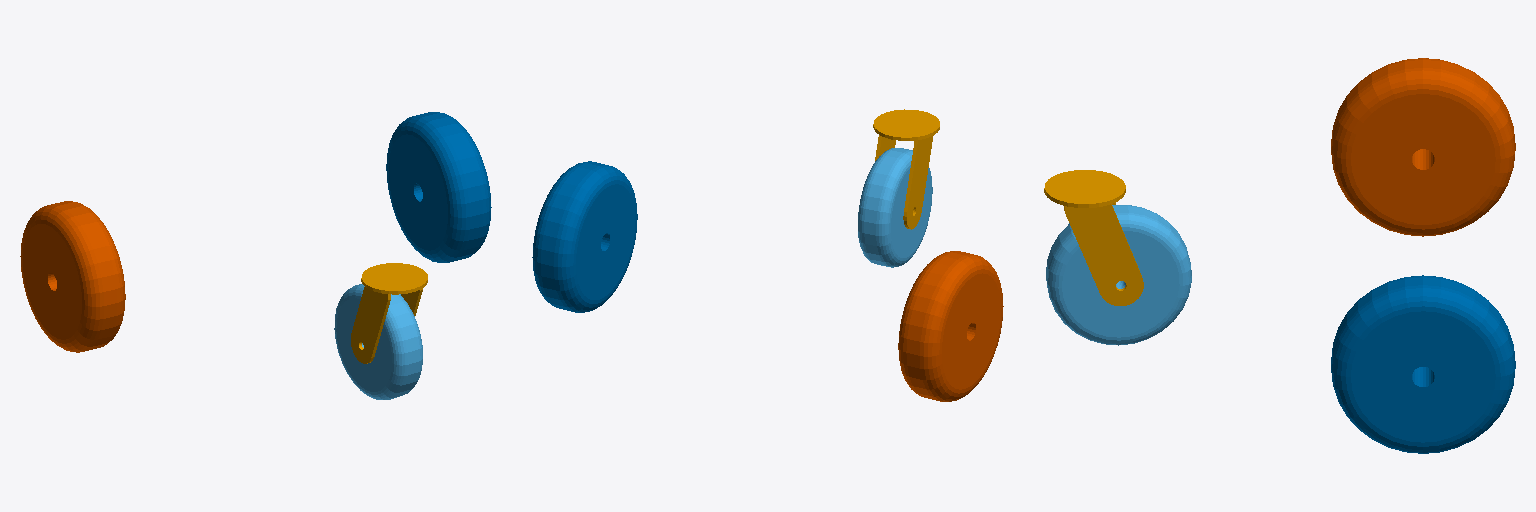
The robot description file, URDF, robot "igvc_test_robot":
<?xml version="1.0" ?>
<!-- =================================================================================== -->
<!-- |    This document was autogenerated by xacro from /workspace/DevEnv/jazzy_ws/IGVC_robot_2026/src/igvc_test_description/urdf/robots/test_robot.urdf.xacro | -->
<!-- |    EDITING THIS FILE BY HAND IS NOT RECOMMENDED                                 | -->
<!-- =================================================================================== -->
<robot name="igvc_test_robot">
  <ros2_control name="igvc_test_bot" type="system">
    <hardware>
      <plugin>grr_hardware/IsaacDriveHardware</plugin>
    </hardware>
    <joint name="right_wheel_joint">
      <command_interface name="velocity">
        <param name="min">-1</param>
        <param name="max">1</param>
      </command_interface>
      <state_interface name="position"/>
      <state_interface name="velocity"/>
    </joint>
    <joint name="left_wheel_joint">
      <command_interface name="velocity">
        <param name="min">-1</param>
        <param name="max">1</param>
      </command_interface>
      <state_interface name="position"/>
      <state_interface name="velocity"/>
    </joint>
  </ros2_control>
  <material name="zed_mat">
    <color rgba="0.8 0.8 0.8 1.0"/>
  </material>
  <material name="zedm_mat">
    <color rgba="0 0 0 1.0"/>
  </material>
  <material name="zed2_mat">
    <color rgba="0.25 0.25 0.25 1.0"/>
  </material>
  <material name="zed2i_mat">
    <color rgba="0.25 0.25 0.25 1.0"/>
  </material>
  <material name="zedx_mat">
    <color rgba="0.25 0.25 0.25 1.0"/>
  </material>
  <material name="zedxm_mat">
    <color rgba="0.25 0.25 0.25 1.0"/>
  </material>
  <material name="zedxhdr_mat">
    <color rgba="0.25 0.25 0.25 1.0"/>
  </material>
  <material name="zedxhdrmini_mat">
    <color rgba="0.25 0.25 0.25 1.0"/>
  </material>
  <material name="zedxhdrmax_mat">
    <color rgba="0.25 0.25 0.25 1.0"/>
  </material>
  <material name="virtual_mat">
    <color rgba="0.25 0.25 0.25 1.0"/>
  </material>
  <material name="zedxonegs_mat">
    <color rgba="0.25 0.25 0.25 1.0"/>
  </material>
  <material name="zedxone4k_mat">
    <color rgba="0.25 0.25 0.25 1.0"/>
  </material>
  <material name="zedxonehdr_mat">
    <color rgba="0.25 0.25 0.25 1.0"/>
  </material>
  <joint name="right_wheel_joint" type="continuous">
    <origin rpy="-1.5707966 -0.0000001 -1.5707964" xyz="-0.25135 0. -0.128425"/>
    <parent link="chassis_link"/>
    <child link="right_wheel_link"/>
    <axis xyz="0. 0. 1."/>
  </joint>
  <joint name="caster_raceway_joint" type="continuous">
    <origin rpy="3.1415927 0. 0. " xyz="0. -0.3725 -0.044525"/>
    <parent link="chassis_link"/>
    <child link="caster_raceway_link"/>
    <axis xyz="0. 0. 1."/>
  </joint>
  <joint name="left_wheel_joint" type="continuous">
    <origin rpy="3.1415927 1.5707964 0. " xyz="0.25135 0. -0.128425"/>
    <parent link="chassis_link"/>
    <child link="left_wheel_link"/>
    <axis xyz="0. 0. -1."/>
  </joint>
  <joint name="caster_wheel_joint" type="continuous">
    <origin rpy="1.5707963 0.0862497 -1.660313 " xyz="-0.0270522 -0.0350281 0.1085062"/>
    <parent link="caster_raceway_link"/>
    <child link="caster_wheel_link"/>
    <axis xyz="0. 0. -1."/>
  </joint>
  <joint name="rootJoint" type="fixed">
    <origin rpy="0. 0. 0." xyz="0. 0. 0."/>
    <parent link="base_link"/>
    <child link="chassis_link"/>
  </joint>
  <link name="caster_raceway_link">
    <visual>
      <origin rpy="-3.1415927 0. 1.4812796" xyz="0. -0. -0.005"/>
      <geometry>
        <mesh filename="package://igvc_test_description/meshes/Part_2.obj" scale="1. 1. 1."/>
      </geometry>
    </visual>
    <collision>
      <origin rpy="-3.1415927 0. 1.4812796" xyz="0. -0. -0.005"/>
      <geometry>
        <mesh filename="package://igvc_test_description/meshes/Part_2.obj" scale="1. 1. 1."/>
      </geometry>
    </collision>
  </link>
  <link name="caster_wheel_link">
    <inertial>
      <origin rpy="0. 0. 0." xyz="0. 0. -0.0238125"/>
      <mass value="1.0005643"/>
      <inertia ixx="0.0017247" ixy="-0." ixz="-0." iyy="0.0030953" iyz="0." izz="0.0017247"/>
    </inertial>
    <visual>
      <origin rpy="-1.5707963 -0. 0.0000001" xyz="0.0373062 0.1135063 -0.0238125"/>
      <geometry>
        <mesh filename="package://igvc_test_description/meshes/_in_Caster.obj" scale="1. 1. 1."/>
      </geometry>
    </visual>
    <collision>
      <origin rpy="-1.5707963 -0. 0.0000001" xyz="0.0373062 0.1135063 -0.0238125"/>
      <geometry>
        <mesh filename="package://igvc_test_description/meshes/_in_Caster.obj" scale="1. 1. 1."/>
      </geometry>
    </collision>
  </link>
  <link name="chassis_link">
    <visual>
      <origin rpy="0. 0. 0." xyz="0. 0. 0."/>
      <geometry>
        <mesh filename="package://igvc_test_description/meshes/_FE2CBA3_2B86_49A6_86C6_46C335366A6A.obj" scale="1. 1. 1."/>
      </geometry>
    </visual>
    <collision>
      <origin rpy="0. 0. 0." xyz="0. 0. 0."/>
      <geometry>
        <mesh filename="package://igvc_test_description/meshes/_FE2CBA3_2B86_49A6_86C6_46C335366A6A.obj" scale="1. 1. 1."/>
      </geometry>
    </collision>
  </link>
  <link name="base_link"/>
  <link name="left_wheel_link">
    <inertial>
      <origin rpy="0. 0. 0." xyz="0. 0. -0.032"/>
      <mass value="2.1118586"/>
      <inertia ixx="0.0059185" ixy="0." ixz="0." iyy="0.0105056" iyz="-0." izz="0.0059185"/>
    </inertial>
    <visual>
      <origin rpy="1.5707964 0. 0. " xyz="0. 0. -0.032"/>
      <geometry>
        <mesh filename="package://igvc_test_description/meshes/left_wheel_link__in_Wheel_Stand_In.obj" scale="1. 1. 1."/>
      </geometry>
    </visual>
    <collision>
      <origin rpy="1.5707964 0. 0. " xyz="0. 0. -0.032"/>
      <geometry>
        <mesh filename="package://igvc_test_description/meshes/left_wheel_link__in_Wheel_Stand_In.obj" scale="1. 1. 1."/>
      </geometry>
    </collision>
  </link>
  <link name="right_wheel_link">
    <inertial>
      <origin rpy="0. 0. 0." xyz="0. 0. -0.032"/>
      <mass value="2.1118586"/>
      <inertia ixx="0.0059185" ixy="-0." ixz="-0." iyy="0.0105056" iyz="0." izz="0.0059185"/>
    </inertial>
    <visual>
      <origin rpy="-1.5707961 -0.0000001 0.0000001" xyz="0. 0. -0.032"/>
      <geometry>
        <mesh filename="package://igvc_test_description/meshes/right_wheel_link__in_Wheel_Stand_In.obj" scale="1. 1. 1."/>
      </geometry>
    </visual>
    <collision>
      <origin rpy="-1.5707961 -0.0000001 0.0000001" xyz="0. 0. -0.032"/>
      <geometry>
        <mesh filename="package://igvc_test_description/meshes/right_wheel_link__in_Wheel_Stand_In.obj" scale="1. 1. 1."/>
      </geometry>
    </collision>
  </link>
  <!-- Camera mounting point (the threaded screw hole in the bottom) -->
  <link name="left_zed_camera_x_camera_link"/>
  <!-- Camera Center -->
  <link name="left_zed_camera_x_camera_center">
    <visual>
      <origin rpy="0 0 0" xyz="0.0 0 -0.016"/>
      <geometry>
        <mesh filename="package:///workspace/DevEnv/jazzy_ws/IGVC_robot_2026/install/zed_description/share/zed_description/meshes/zedx.stl"/>
      </geometry>
      <material name="zedx_mat"/>
    </visual>
    <collision>
      <origin rpy="0 0 0" xyz="0.0 0 -0.016"/>
      <geometry>
        <mesh filename="package:///workspace/DevEnv/jazzy_ws/IGVC_robot_2026/install/zed_description/share/zed_description/meshes/zedx.stl"/>
      </geometry>
    </collision>
  </link>
  <joint name="left_zed_camera_x_camera_center_joint" type="fixed">
    <parent link="left_zed_camera_x_camera_link"/>
    <child link="left_zed_camera_x_camera_center"/>
    <origin rpy="0 0.0 0" xyz="0 0 0.016"/>
  </joint>
  <!-- Left Camera -->
  <link name="left_zed_camera_x_left_camera_frame">
  </link>
  <joint name="left_zed_camera_x_left_camera_joint" type="fixed">
    <parent link="left_zed_camera_x_camera_center"/>
    <child link="left_zed_camera_x_left_camera_frame"/>
    <origin rpy="0 0 0" xyz="-0.01 0.06 0"/>
  </joint>
  <link name="left_zed_camera_x_left_camera_optical_frame"/>
  <joint name="left_zed_camera_x_left_camera_optical_joint" type="fixed">
    <origin rpy="-1.5707963267948966 0.0 -1.5707963267948966" xyz="0 0 0"/>
    <parent link="left_zed_camera_x_left_camera_frame"/>
    <child link="left_zed_camera_x_left_camera_optical_frame"/>
  </joint>
  <!-- Right Camera -->
  <link name="left_zed_camera_x_right_camera_frame">
  </link>
  <joint name="left_zed_camera_x_right_camera_joint" type="fixed">
    <parent link="left_zed_camera_x_camera_center"/>
    <child link="left_zed_camera_x_right_camera_frame"/>
    <origin rpy="0 0 0" xyz="-0.01 -0.06 0"/>
  </joint>
  <link name="left_zed_camera_x_right_camera_optical_frame"/>
  <joint name="left_zed_camera_x_right_camera_optical_joint" type="fixed">
    <origin rpy="-1.5707963267948966 0.0 -1.5707963267948966" xyz="0 0 0"/>
    <parent link="left_zed_camera_x_right_camera_frame"/>
    <child link="left_zed_camera_x_right_camera_optical_frame"/>
  </joint>
  <link name="left_zed_camera_x_gnss_link"/>
  <joint name="left_zed_camera_x_gnss_joint" type="fixed">
    <parent link="left_zed_camera_x_camera_link"/>
    <child link="left_zed_camera_x_gnss_link"/>
    <gnss_origin rpy="0 0 0" xyz="0 0 0"/>
  </joint>
  <joint name="left_zed_camera_x_joint" type="fixed">
    <parent link="chassis_link"/>
    <child link="left_zed_camera_x_camera_link"/>
    <origin rpy="0 0 0" xyz="0.2 -0.1 1.57"/>
  </joint>
  <!-- Camera mounting point (the threaded screw hole in the bottom) -->
  <link name="front_zed_camera_x_camera_link"/>
  <!-- Camera Center -->
  <link name="front_zed_camera_x_camera_center">
    <visual>
      <origin rpy="0 0 0" xyz="0.0 0 -0.016"/>
      <geometry>
        <mesh filename="package:///workspace/DevEnv/jazzy_ws/IGVC_robot_2026/install/zed_description/share/zed_description/meshes/zedx.stl"/>
      </geometry>
      <material name="zedx_mat"/>
    </visual>
    <collision>
      <origin rpy="0 0 0" xyz="0.0 0 -0.016"/>
      <geometry>
        <mesh filename="package:///workspace/DevEnv/jazzy_ws/IGVC_robot_2026/install/zed_description/share/zed_description/meshes/zedx.stl"/>
      </geometry>
    </collision>
  </link>
  <joint name="front_zed_camera_x_camera_center_joint" type="fixed">
    <parent link="front_zed_camera_x_camera_link"/>
    <child link="front_zed_camera_x_camera_center"/>
    <origin rpy="0 0.0 0" xyz="0 0 0.016"/>
  </joint>
  <!-- Left Camera -->
  <link name="front_zed_camera_x_left_camera_frame">
  </link>
  <joint name="front_zed_camera_x_left_camera_joint" type="fixed">
    <parent link="front_zed_camera_x_camera_center"/>
    <child link="front_zed_camera_x_left_camera_frame"/>
    <origin rpy="0 0 0" xyz="-0.01 0.06 0"/>
  </joint>
  <link name="front_zed_camera_x_left_camera_optical_frame"/>
  <joint name="front_zed_camera_x_left_camera_optical_joint" type="fixed">
    <origin rpy="-1.5707963267948966 0.0 -1.5707963267948966" xyz="0 0 0"/>
    <parent link="front_zed_camera_x_left_camera_frame"/>
    <child link="front_zed_camera_x_left_camera_optical_frame"/>
  </joint>
  <!-- Right Camera -->
  <link name="front_zed_camera_x_right_camera_frame">
  </link>
  <joint name="front_zed_camera_x_right_camera_joint" type="fixed">
    <parent link="front_zed_camera_x_camera_center"/>
    <child link="front_zed_camera_x_right_camera_frame"/>
    <origin rpy="0 0 0" xyz="-0.01 -0.06 0"/>
  </joint>
  <link name="front_zed_camera_x_right_camera_optical_frame"/>
  <joint name="front_zed_camera_x_right_camera_optical_joint" type="fixed">
    <origin rpy="-1.5707963267948966 0.0 -1.5707963267948966" xyz="0 0 0"/>
    <parent link="front_zed_camera_x_right_camera_frame"/>
    <child link="front_zed_camera_x_right_camera_optical_frame"/>
  </joint>
  <link name="front_zed_camera_x_gnss_link"/>
  <joint name="front_zed_camera_x_gnss_joint" type="fixed">
    <parent link="front_zed_camera_x_camera_link"/>
    <child link="front_zed_camera_x_gnss_link"/>
    <gnss_origin rpy="0 0 0" xyz="0 0 0"/>
  </joint>
  <joint name="front_zed_camera_x_joint" type="fixed">
    <parent link="chassis_link"/>
    <child link="front_zed_camera_x_camera_link"/>
    <origin rpy="0 0 0" xyz="0.2 0 0"/>
  </joint>
  <!-- Camera mounting point (the threaded screw hole in the bottom) -->
  <link name="right_zed_camera_x_camera_link"/>
  <!-- Camera Center -->
  <link name="right_zed_camera_x_camera_center">
    <visual>
      <origin rpy="0 0 0" xyz="0.0 0 -0.016"/>
      <geometry>
        <mesh filename="package:///workspace/DevEnv/jazzy_ws/IGVC_robot_2026/install/zed_description/share/zed_description/meshes/zedx.stl"/>
      </geometry>
      <material name="zedx_mat"/>
    </visual>
    <collision>
      <origin rpy="0 0 0" xyz="0.0 0 -0.016"/>
      <geometry>
        <mesh filename="package:///workspace/DevEnv/jazzy_ws/IGVC_robot_2026/install/zed_description/share/zed_description/meshes/zedx.stl"/>
      </geometry>
    </collision>
  </link>
  <joint name="right_zed_camera_x_camera_center_joint" type="fixed">
    <parent link="right_zed_camera_x_camera_link"/>
    <child link="right_zed_camera_x_camera_center"/>
    <origin rpy="0 0.0 0" xyz="0 0 0.016"/>
  </joint>
  <!-- Left Camera -->
  <link name="right_zed_camera_x_left_camera_frame">
  </link>
  <joint name="right_zed_camera_x_left_camera_joint" type="fixed">
    <parent link="right_zed_camera_x_camera_center"/>
    <child link="right_zed_camera_x_left_camera_frame"/>
    <origin rpy="0 0 0" xyz="-0.01 0.06 0"/>
  </joint>
  <link name="right_zed_camera_x_left_camera_optical_frame"/>
  <joint name="right_zed_camera_x_left_camera_optical_joint" type="fixed">
    <origin rpy="-1.5707963267948966 0.0 -1.5707963267948966" xyz="0 0 0"/>
    <parent link="right_zed_camera_x_left_camera_frame"/>
    <child link="right_zed_camera_x_left_camera_optical_frame"/>
  </joint>
  <!-- Right Camera -->
  <link name="right_zed_camera_x_right_camera_frame">
  </link>
  <joint name="right_zed_camera_x_right_camera_joint" type="fixed">
    <parent link="right_zed_camera_x_camera_center"/>
    <child link="right_zed_camera_x_right_camera_frame"/>
    <origin rpy="0 0 0" xyz="-0.01 -0.06 0"/>
  </joint>
  <link name="right_zed_camera_x_right_camera_optical_frame"/>
  <joint name="right_zed_camera_x_right_camera_optical_joint" type="fixed">
    <origin rpy="-1.5707963267948966 0.0 -1.5707963267948966" xyz="0 0 0"/>
    <parent link="right_zed_camera_x_right_camera_frame"/>
    <child link="right_zed_camera_x_right_camera_optical_frame"/>
  </joint>
  <link name="right_zed_camera_x_gnss_link"/>
  <joint name="right_zed_camera_x_gnss_joint" type="fixed">
    <parent link="right_zed_camera_x_camera_link"/>
    <child link="right_zed_camera_x_gnss_link"/>
    <gnss_origin rpy="0 0 0" xyz="0 0 0"/>
  </joint>
  <joint name="right_zed_camera_x_joint" type="fixed">
    <parent link="chassis_link"/>
    <child link="right_zed_camera_x_camera_link"/>
    <origin rpy="0 0 0" xyz="0.2 0.1 -1.57"/>
  </joint>
</robot>

--- What the picture shows (computed from the rendered views, not written in the file) ---
Views: 3 orthographic renders of the robot side by side, from view 1: azimuth 30°, elevation 25°; view 2: azimuth 150°, elevation 25°; view 3: azimuth 270°, elevation 25°.
Model igvc_test_robot with 27 links and 26 joints (4 continuous, 22 fixed), rooted at base_link, posed all joints at 0.
Links seen in each view (by area): view 1: right_wheel_link, left_wheel_link, caster_wheel_link, caster_raceway_link; view 2: left_wheel_link, right_wheel_link, caster_wheel_link, caster_raceway_link; view 3: left_wheel_link, right_wheel_link, caster_wheel_link, caster_raceway_link.
Boxes of the visible links, x1,y1,x2,y2 form: right_wheel_link: [20, 201, 125, 352]; left_wheel_link: [386, 112, 491, 262]; caster_wheel_link: [334, 284, 422, 399]; caster_raceway_link: [351, 263, 427, 363]; left_wheel_link: [532, 161, 637, 312]; right_wheel_link: [898, 251, 1003, 401]; caster_wheel_link: [858, 148, 932, 267]; caster_raceway_link: [873, 109, 939, 229]; left_wheel_link: [1331, 275, 1515, 453]; right_wheel_link: [1331, 58, 1515, 236]; caster_wheel_link: [1046, 205, 1191, 345]; caster_raceway_link: [1044, 170, 1143, 305].
Size in the robot's own frame: 0.6307 by 0.5189 by 0.2064 metres.
4 mesh visuals loaded from 6 distinct referenced files (4 OBJ); not drawn: 4 (reference not matched to a file when rendering).
